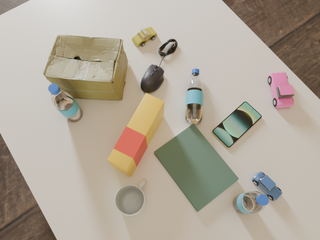book: (154, 123, 239, 212)
bottle: (48, 84, 83, 122), (185, 69, 203, 124), (233, 191, 269, 214)
box: (43, 35, 128, 100), (107, 93, 164, 177)
cup: (115, 179, 148, 216)
mouse: (141, 65, 164, 93)
phone: (212, 102, 262, 148)
toy_car: (268, 72, 294, 108), (252, 171, 282, 200), (132, 27, 157, 47)
